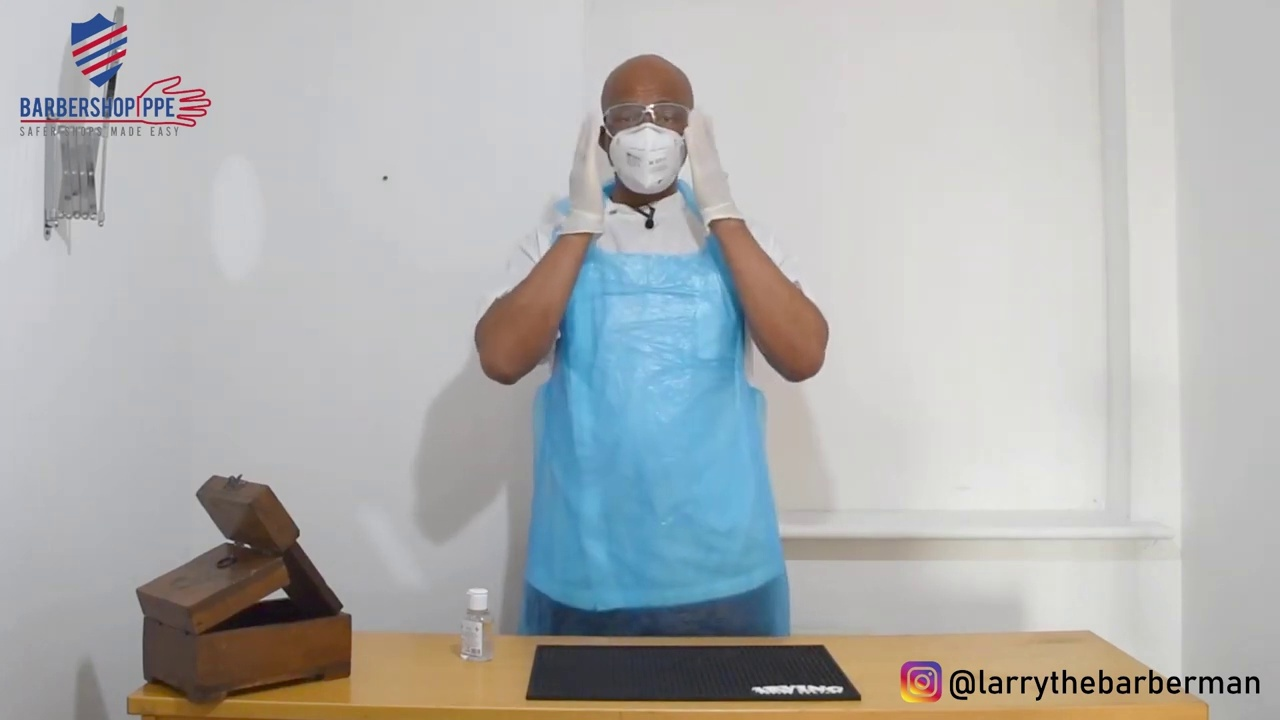Apron: (503, 166, 815, 644)
Glove: (529, 104, 635, 247), (654, 97, 748, 236)
Mask: (589, 116, 698, 201)
No_Hairnet: (592, 38, 706, 127)
